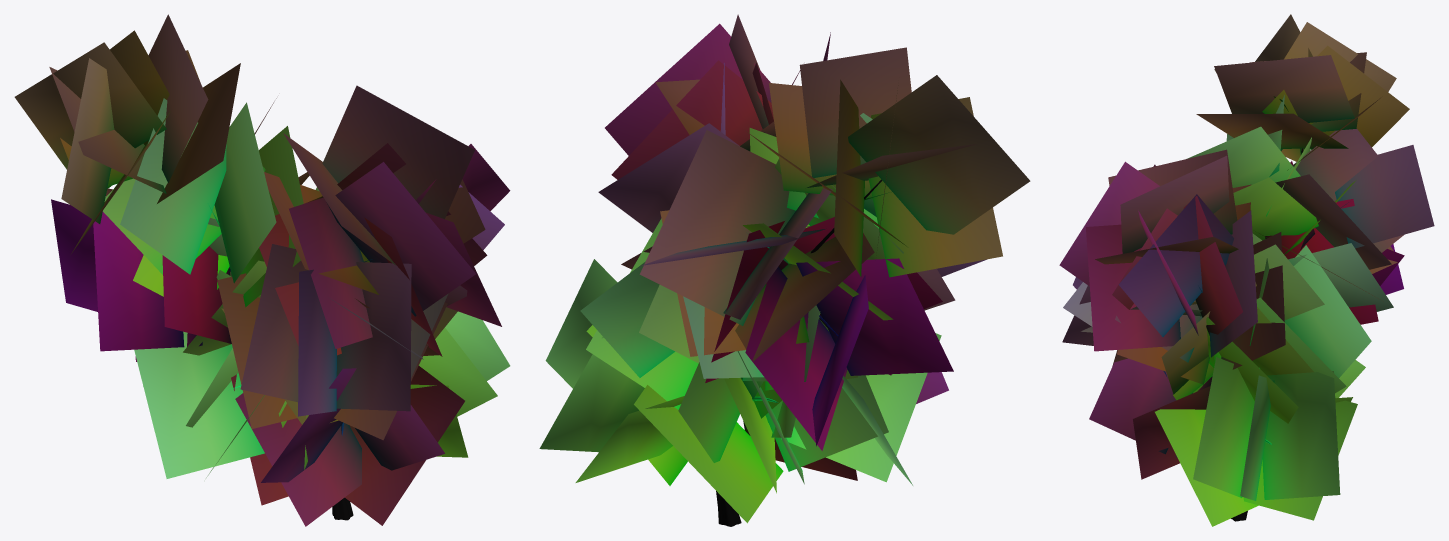
The model's file is URP_P15_Tree_7_LOD_1.fbx.
3 renders of one model, left to right at view 1: azimuth 30°, elevation 25°; view 2: azimuth 150°, elevation 25°; view 3: azimuth 270°, elevation 25°, orthographic. The views are drawn at different scales.
Visible parts, largest first — view 1: Tree_7_LOD_1; view 2: Tree_7_LOD_1; view 3: Tree_7_LOD_1.
Part boxes in pixels (x1=…): Tree_7_LOD_1: x1=14, y1=14, x2=510, y2=526; Tree_7_LOD_1: x1=539, y1=14, x2=1030, y2=526; Tree_7_LOD_1: x1=1059, y1=14, x2=1434, y2=526.
Bounding box in the file's own units: 669 × 702 × 575.
